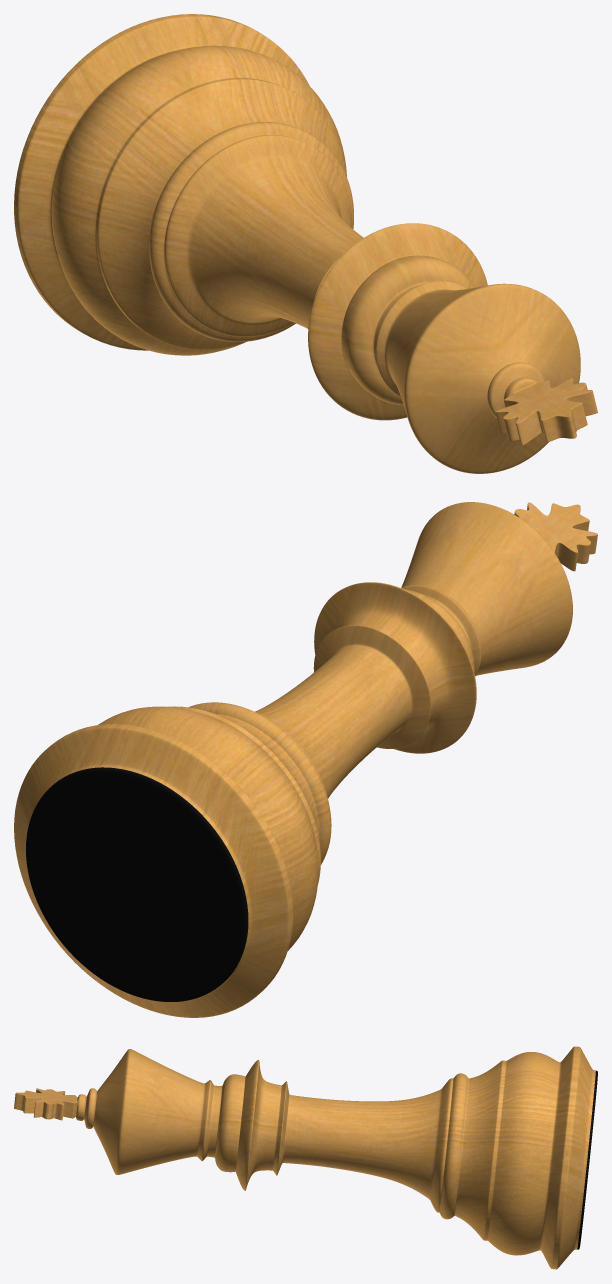
The model's file is white_king.glb.
3 views of the same model, one above another, from view 1: azimuth 30°, elevation 25°; view 2: azimuth 150°, elevation 25°; view 3: azimuth 270°, elevation 25° (orthographic). The views are drawn at different scales.
Visible parts, largest first — view 1: 12926_Wooden_Chess_King_Side_A_v1_l3; view 2: 12926_Wooden_Chess_King_Side_A_v1_l3; view 3: 12926_Wooden_Chess_King_Side_A_v1_l3.
Part boxes in pixels (x1=…): 12926_Wooden_Chess_King_Side_A_v1_l3: x1=14, y1=14, x2=597, y2=473; 12926_Wooden_Chess_King_Side_A_v1_l3: x1=14, y1=502, x2=597, y2=1017; 12926_Wooden_Chess_King_Side_A_v1_l3: x1=14, y1=1046, x2=597, y2=1269.
Bounding box in the file's own units: 4.5 × 4.49 × 11.75.
1 material, 1 textured.
